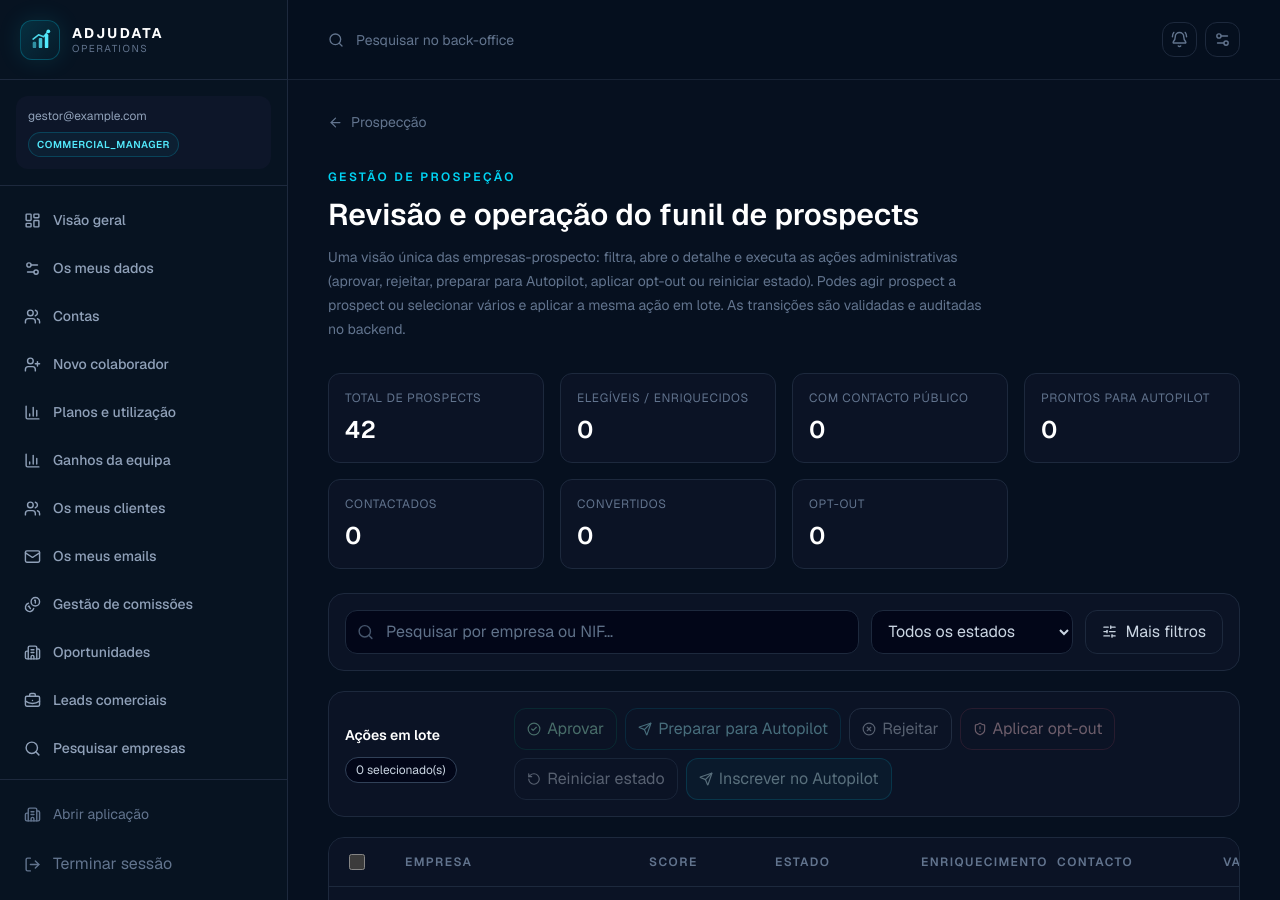
Test: ProspectingManagementPage › aplica uma ação em lote aos prospects selecionados
Click the checkbox named "Selecionar todos os prospects da página" at coordinates (357, 862), box [349,854,365,870]
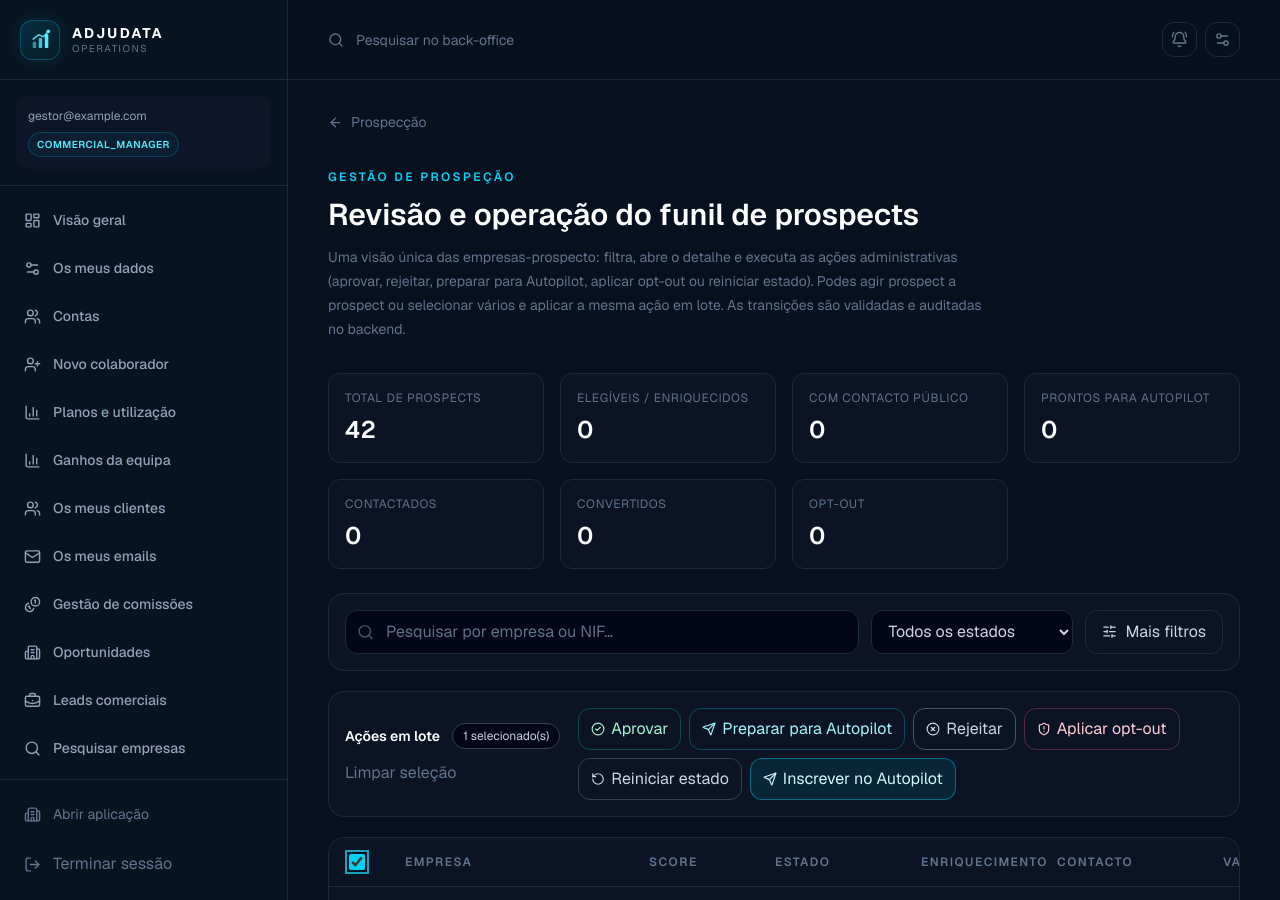
Check: the text "1 selecionado(s)" is shown, box [452,722,560,748]
Click the button "Preparar para Autopilot" at coordinates (797, 728), box [689,708,905,750]
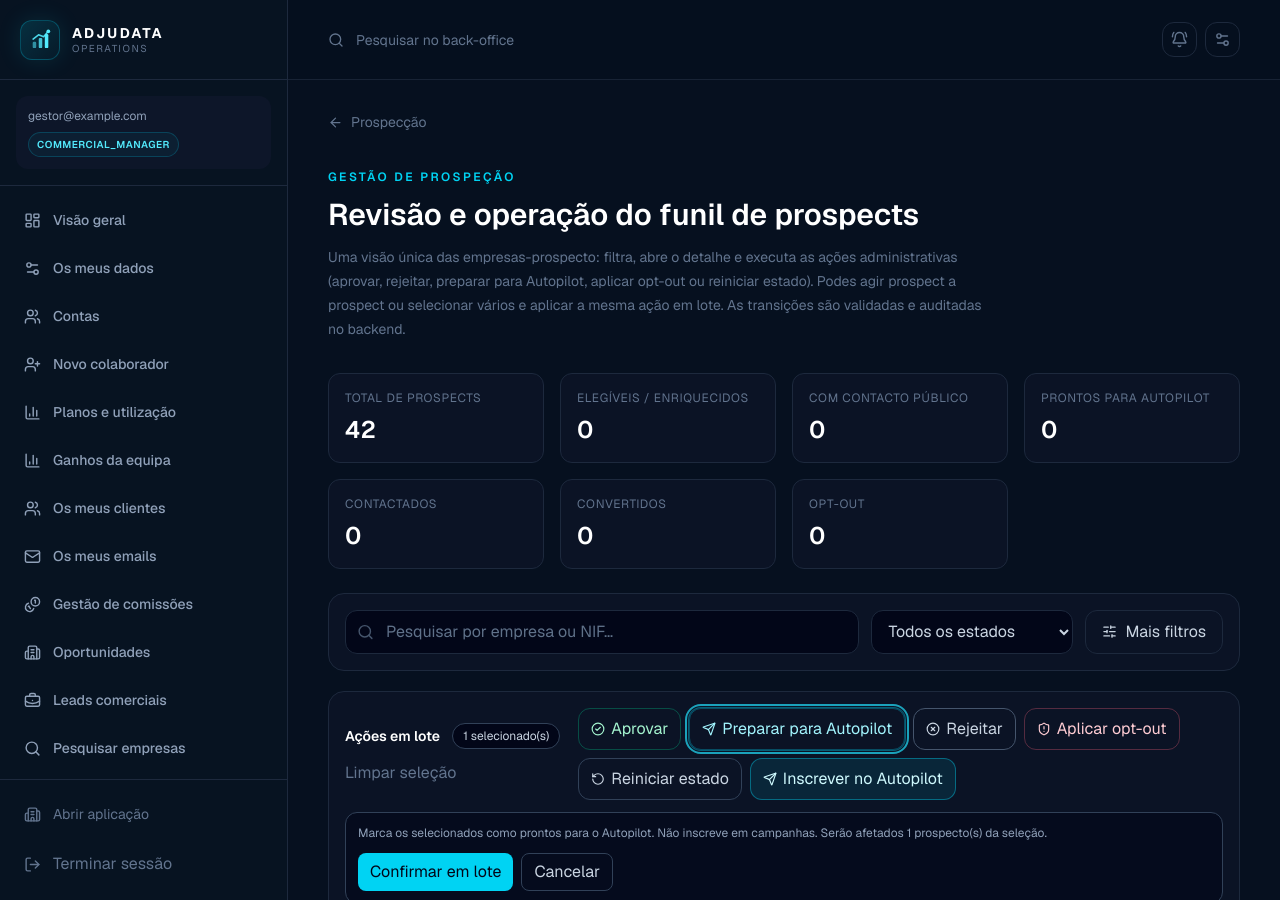
Click the button "Confirmar em lote" at coordinates (436, 872), box [358,852,513,890]
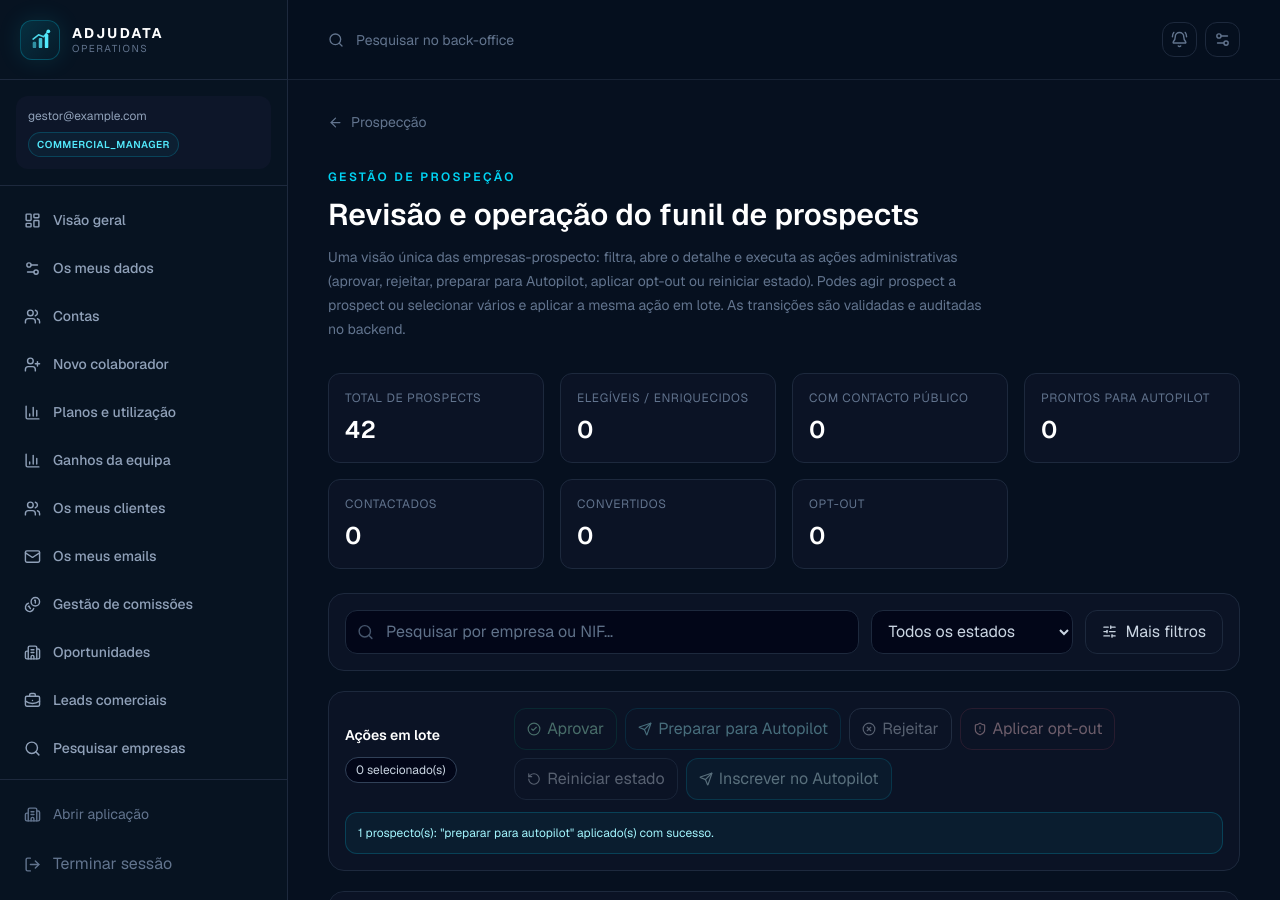
Check: the text "aplicado(s) com sucesso" is shown, box [358,824,714,840]
